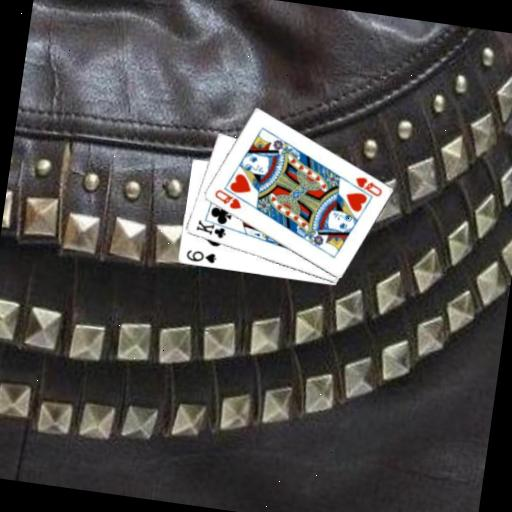6S: (183, 247, 219, 267)
KC: (192, 215, 233, 242)
QH: (344, 172, 385, 201), (210, 186, 245, 212)
